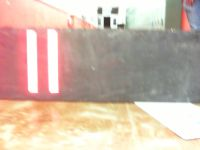switch: (26, 29, 39, 94), (47, 29, 59, 94)
